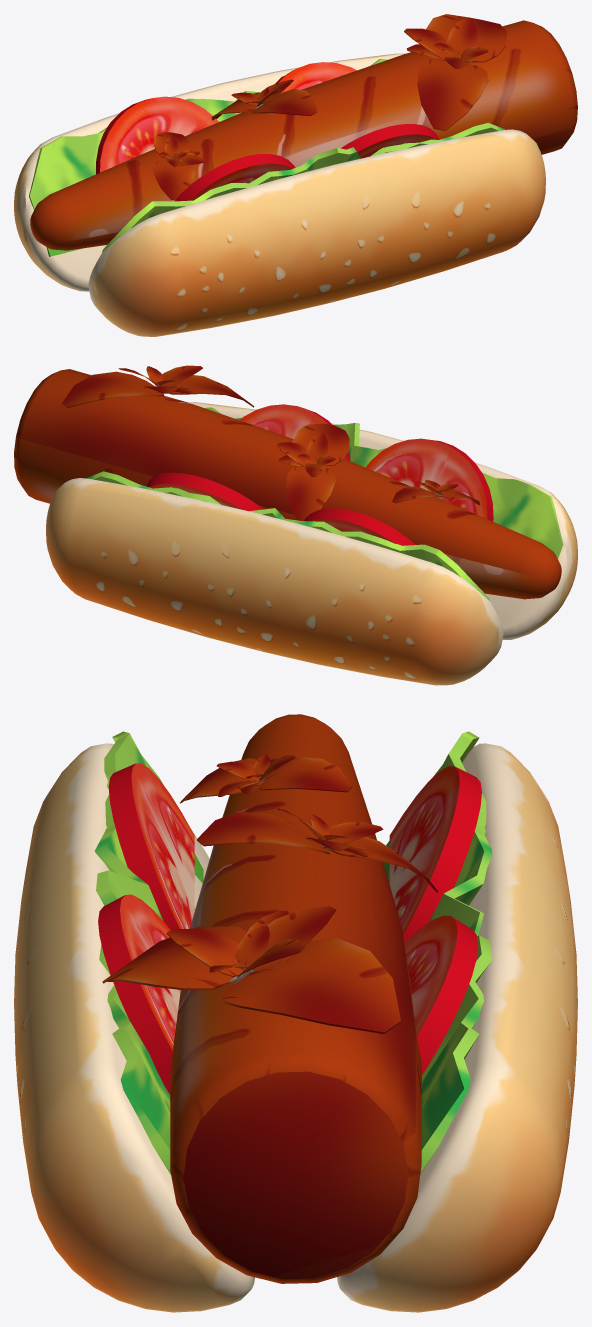
The model's file is Lab_1_veg_hot_dog .fbx.
The picture shows the model from 3 angles, top to bottom: view 1: azimuth 30°, elevation 25°; view 2: azimuth 150°, elevation 25°; view 3: azimuth 270°, elevation 25°; orthographic projection. The views are drawn at different scales.
Visible parts, largest first — view 1: bread.001, Circle.001, Plane.003, Plane.006, Plane.005; view 2: bread.001, Circle.001, Plane.005, Plane.003, Plane.006; view 3: bread.001, Circle.001, Plane.003, Plane.005, Plane.006.
Boxes of the visible parts, box(x1,y1,x2,y2) form: bread.001: box(14, 53, 545, 336); Circle.001: box(30, 20, 577, 250); Plane.003: box(404, 14, 506, 130); Plane.006: box(152, 132, 204, 199); Plane.005: box(211, 79, 317, 120); bread.001: box(46, 402, 577, 685); Circle.001: box(14, 369, 561, 599); Plane.005: box(276, 423, 349, 520); Plane.003: box(62, 365, 254, 407); Plane.006: box(392, 480, 479, 505); bread.001: box(14, 731, 577, 1312); Circle.001: box(170, 714, 421, 1283); Plane.003: box(102, 906, 400, 1033); Plane.005: box(197, 808, 438, 892); Plane.006: box(180, 754, 352, 803).
Bounding box in the file's own units: 4.14 × 1.62 × 2.1.
